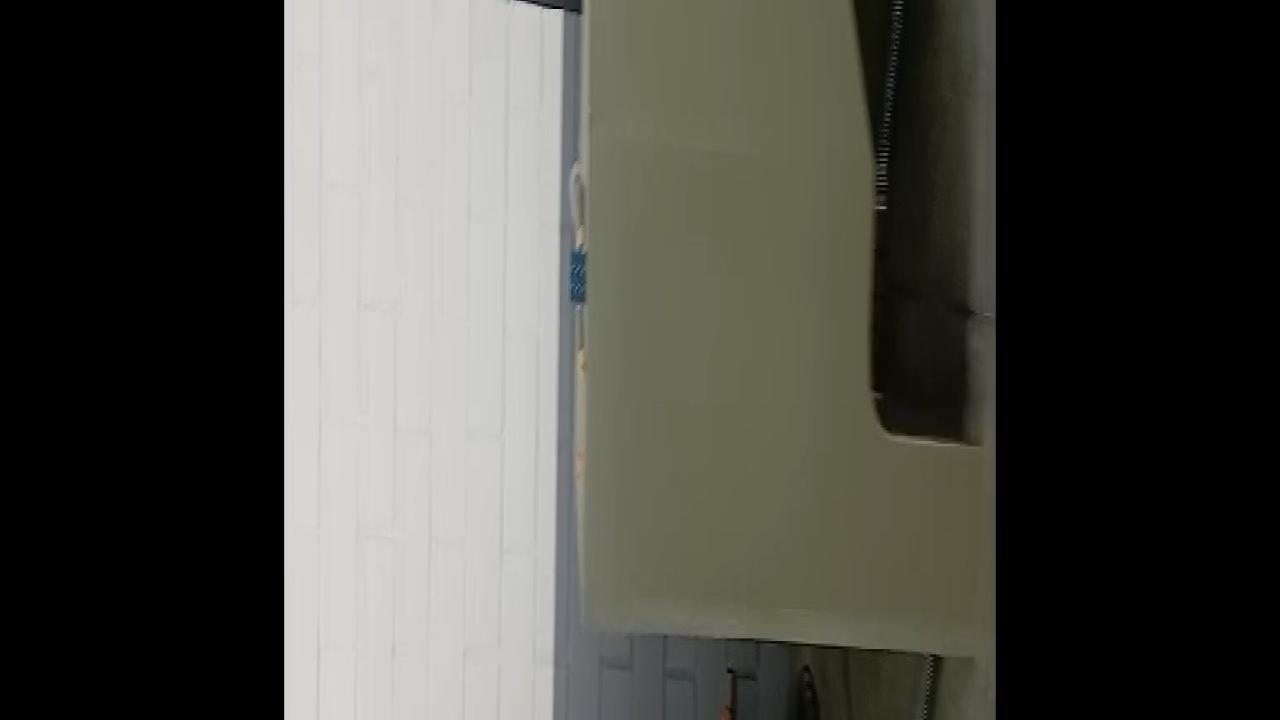Cube: (570, 248, 586, 306)
